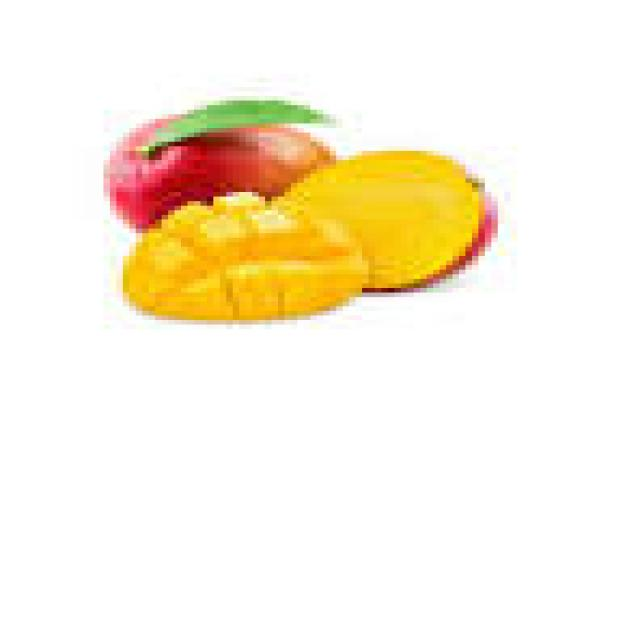mango: (124, 192, 368, 319), (106, 100, 334, 229), (286, 151, 484, 289)
